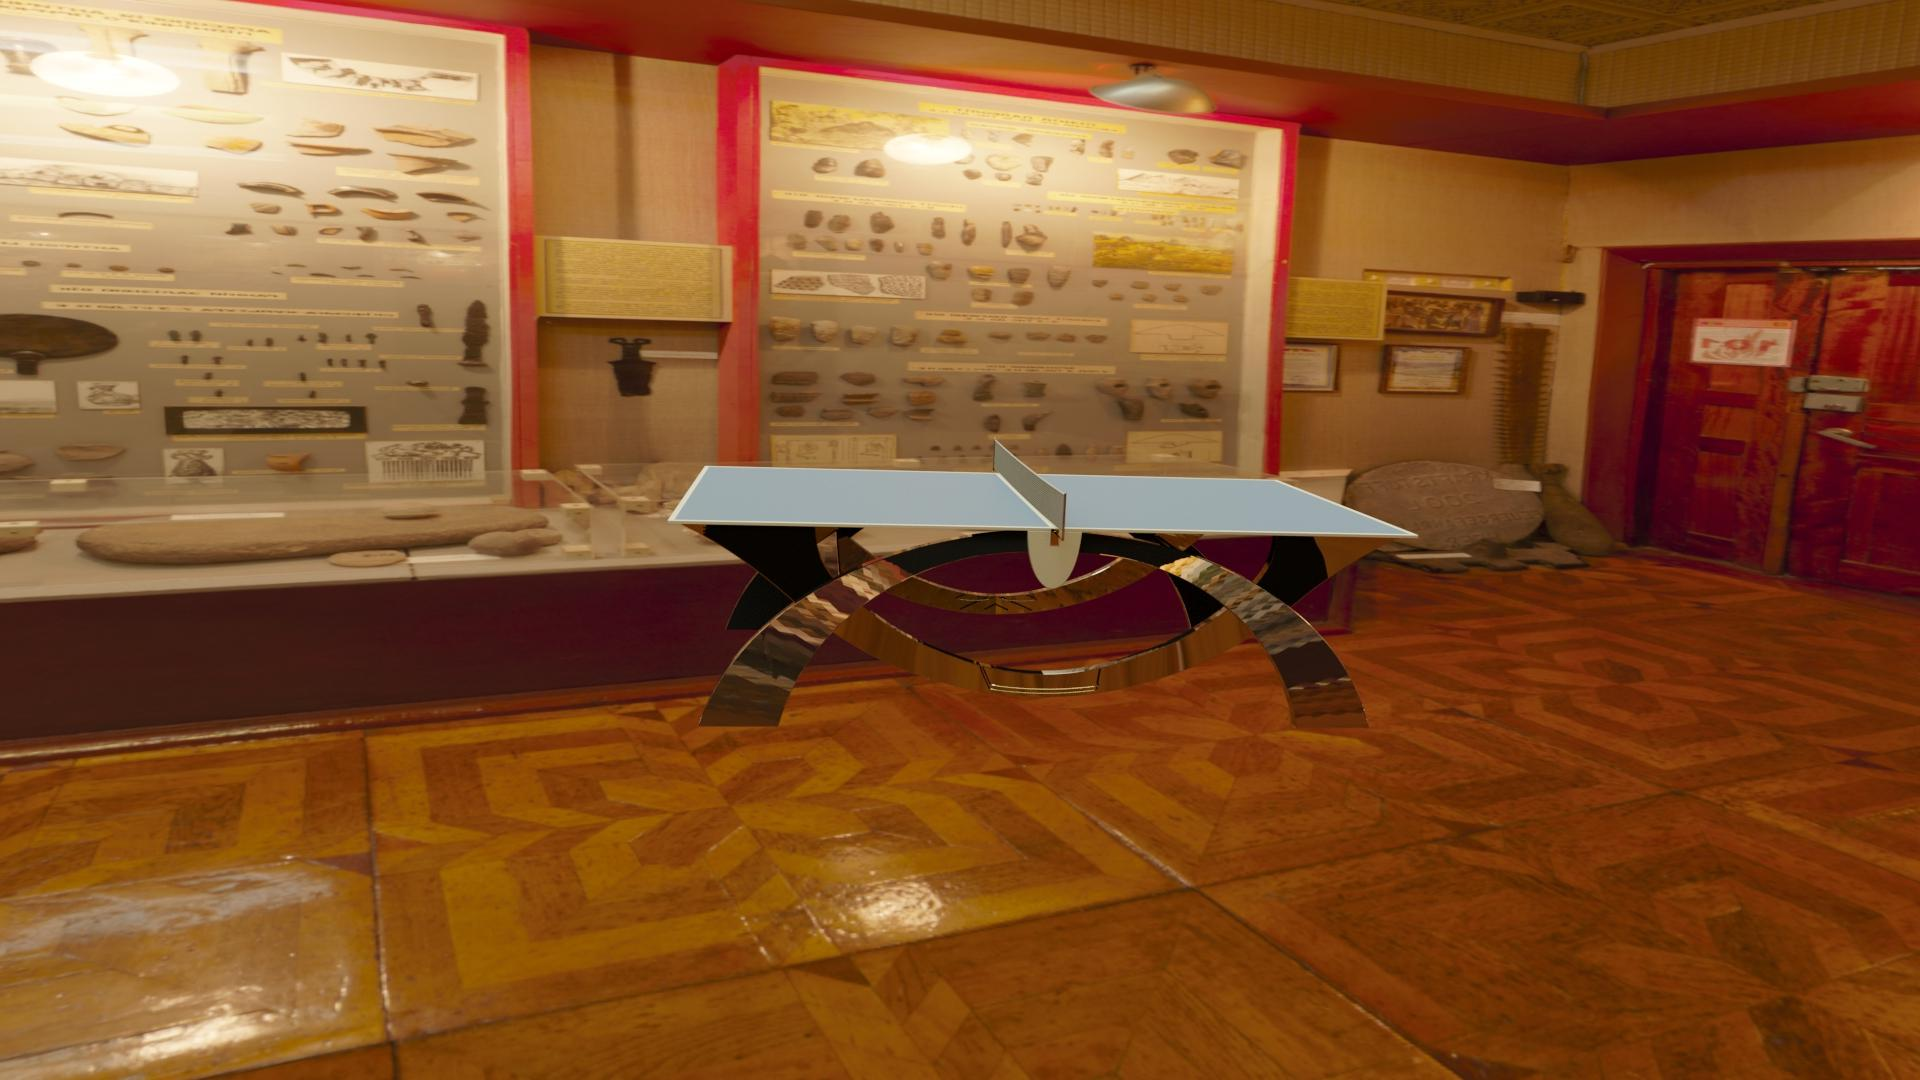table: (674, 467, 1411, 534)
